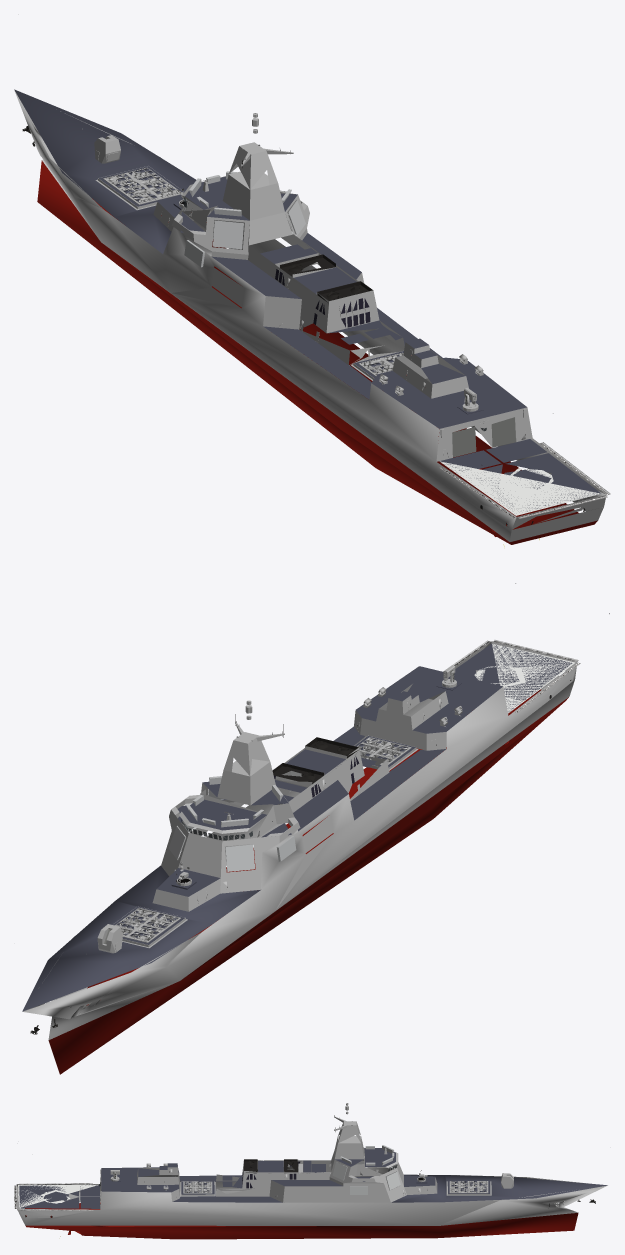
The model's file is type_055.glb.
3 views of the same model, one above another, from view 1: azimuth 30°, elevation 25°; view 2: azimuth 150°, elevation 25°; view 3: azimuth 270°, elevation 25° (orthographic). The views are drawn at different scales.
Parts seen in each view (by area): view 1: Object_29; view 2: Object_29; view 3: Object_29, Object_199, Object_198.
Boxes of the visible parts, left/top/right/bottom form: Object_29: left=14, top=89, right=606, bottom=546; Object_29: left=22, top=641, right=577, bottom=1074; Object_29: left=16, top=1103, right=607, bottom=1239; Object_199: left=14, top=1183, right=93, bottom=1210; Object_198: left=14, top=1183, right=92, bottom=1210.
Size of the model in its own units: 26.27 by 43.61 by 178.
5 materials, 5 textured.
